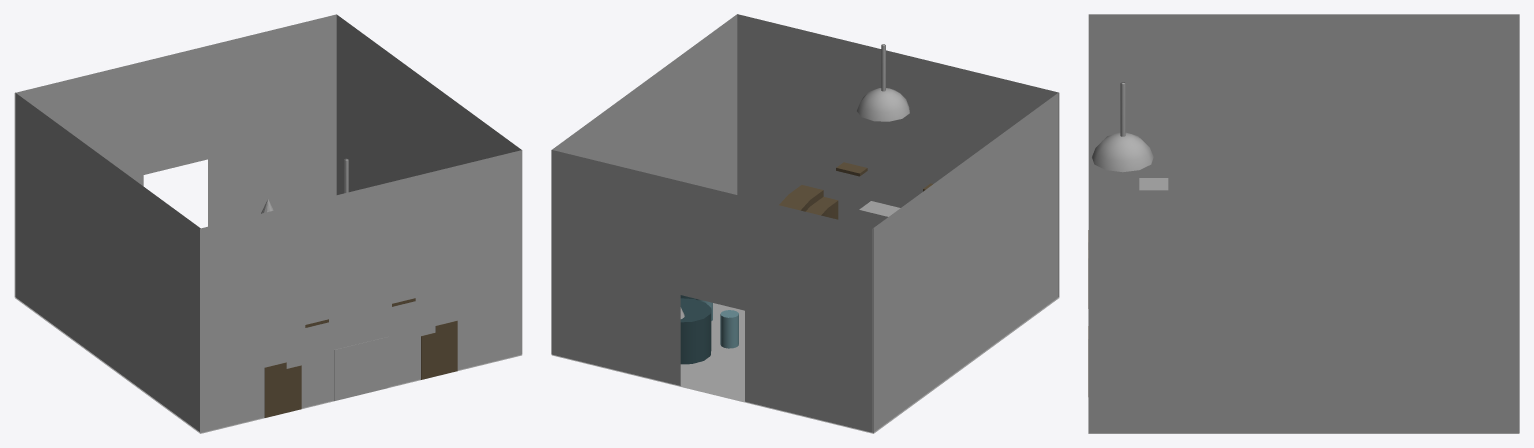
Rendered from Blockout Alien Cocktail.fbx.
3 views of the same model, side by side, from view 1: azimuth 30°, elevation 25°; view 2: azimuth 150°, elevation 25°; view 3: azimuth 270°, elevation 25° (orthographic). The views are drawn at different scales.
Visible parts, largest first — view 1: Pared4, Pared2, Pared3, Pared1, Barra, Mesa_Máquina, Suelo; view 2: Pared2, Pared4, Pared3, Pared1, Suelo, Mesa2, LamparaTecho, Barra, Taburete1, Mesa_Máquina; view 3: Pared1, Pared3, LamparaTecho, Gramofono, Suelo.
Part boxes in pixels (<box>): Pared4: <box>200,150,522,432</box>; Pared2: <box>14,14,336,297</box>; Pared3: <box>15,93,200,431</box>; Pared1: <box>336,14,521,194</box>; Barra: <box>264,320,457,417</box>; Mesa_Máquina: <box>334,337,388,400</box>; Suelo: <box>15,297,521,433</box>; Pared2: <box>551,150,873,432</box>; Pared4: <box>737,14,1059,296</box>; Pared3: <box>872,93,1058,432</box>; Pared1: <box>551,14,737,354</box>; Suelo: <box>552,297,1059,433</box>; Mesa2: <box>680,298,711,364</box>; LamparaTecho: <box>857,88,909,121</box>; Barra: <box>779,185,838,219</box>; Taburete1: <box>720,310,738,348</box>; Mesa_Máquina: <box>859,201,900,227</box>; Pared1: <box>1088,196,1519,433</box>; Pared3: <box>1088,14,1519,195</box>; LamparaTecho: <box>1092,132,1153,172</box>; Gramofono: <box>1139,178,1168,195</box>; Suelo: <box>1088,309,1519,433</box>.
Size of the model in its own units: 23.99 by 15.94 by 24.02.
